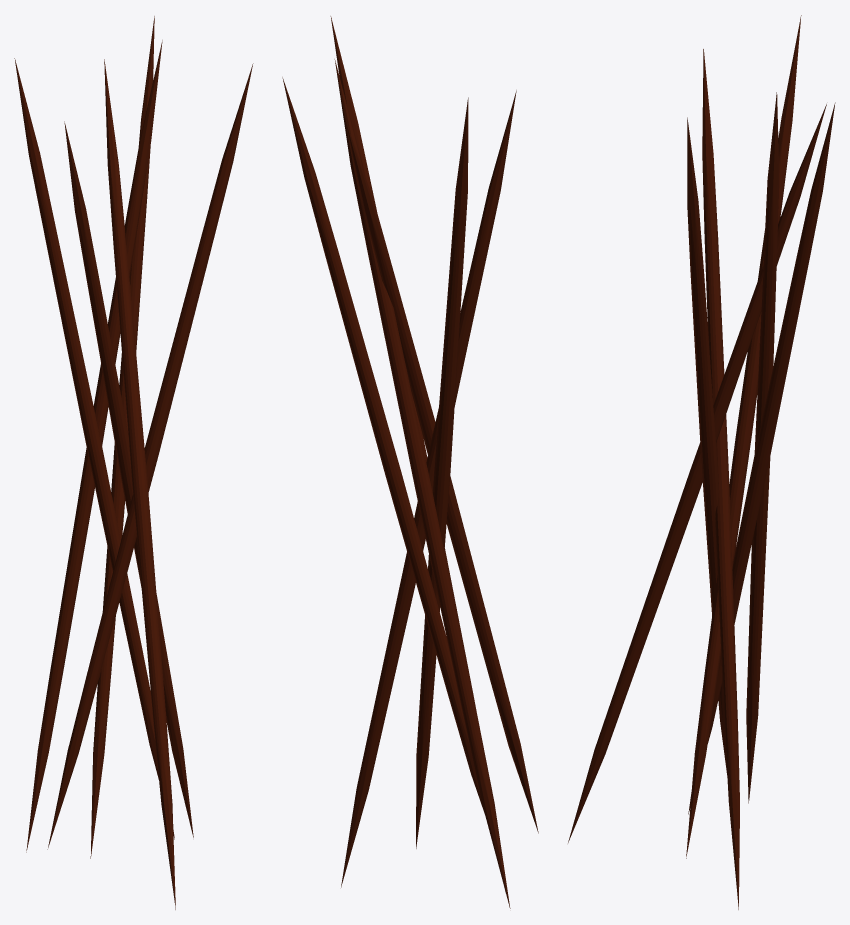
The model's file is Zahnstocher_Multi.obj.
3 views of the same model, side by side, from view 1: azimuth 30°, elevation 25°; view 2: azimuth 150°, elevation 25°; view 3: azimuth 270°, elevation 25° (orthographic). The views are drawn at different scales.
Parts seen in each view (by area): view 1: Cylinder.005, Cylinder.001, Cylinder, Cylinder.004, Cylinder.002, Cylinder.003; view 2: Cylinder.004, Cylinder.003, Cylinder.005, Cylinder, Cylinder.002, Cylinder.001; view 3: Cylinder.002, Cylinder.005, Cylinder.004, Cylinder, Cylinder.003, Cylinder.001.
Part boxes in pixels (x1,y1,x2,y2): Cylinder.005: (104, 59, 175, 909); Cylinder.001: (47, 63, 253, 849); Cylinder: (14, 58, 174, 839); Cylinder.004: (26, 40, 162, 852); Cylinder.002: (64, 121, 193, 837); Cylinder.003: (90, 16, 154, 858); Cylinder.004: (334, 59, 510, 908); Cylinder.003: (282, 77, 484, 812); Cylinder.005: (345, 118, 538, 833); Cylinder: (416, 97, 468, 848); Cylinder.002: (341, 90, 516, 887); Cylinder.001: (330, 16, 475, 705); Cylinder.002: (702, 49, 739, 909); Cylinder.005: (568, 104, 826, 842); Cylinder.004: (746, 92, 779, 803); Cylinder: (686, 15, 801, 858); Cylinder.003: (688, 102, 835, 814); Cylinder.001: (687, 117, 727, 774).
Bounding box in the file's own units: 0.6605 × 2.55 × 0.7535.
